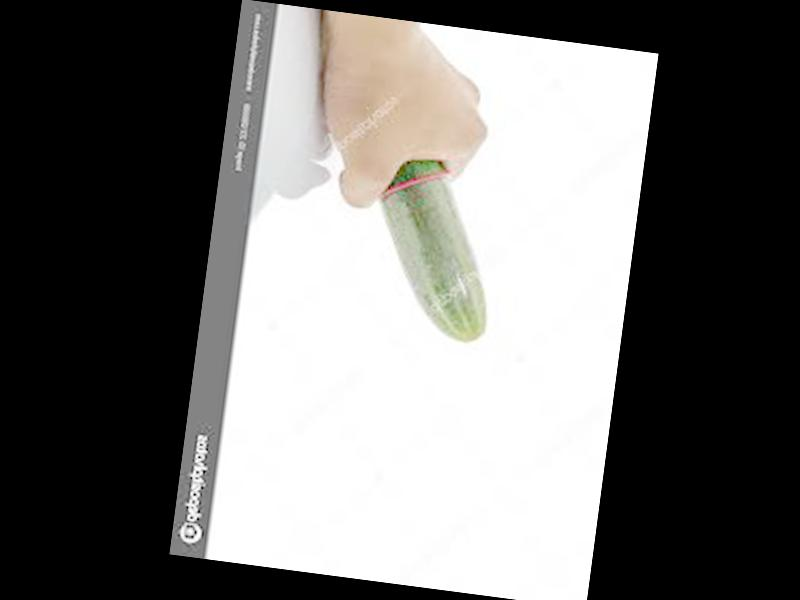Cucumber: (364, 153, 506, 344)
